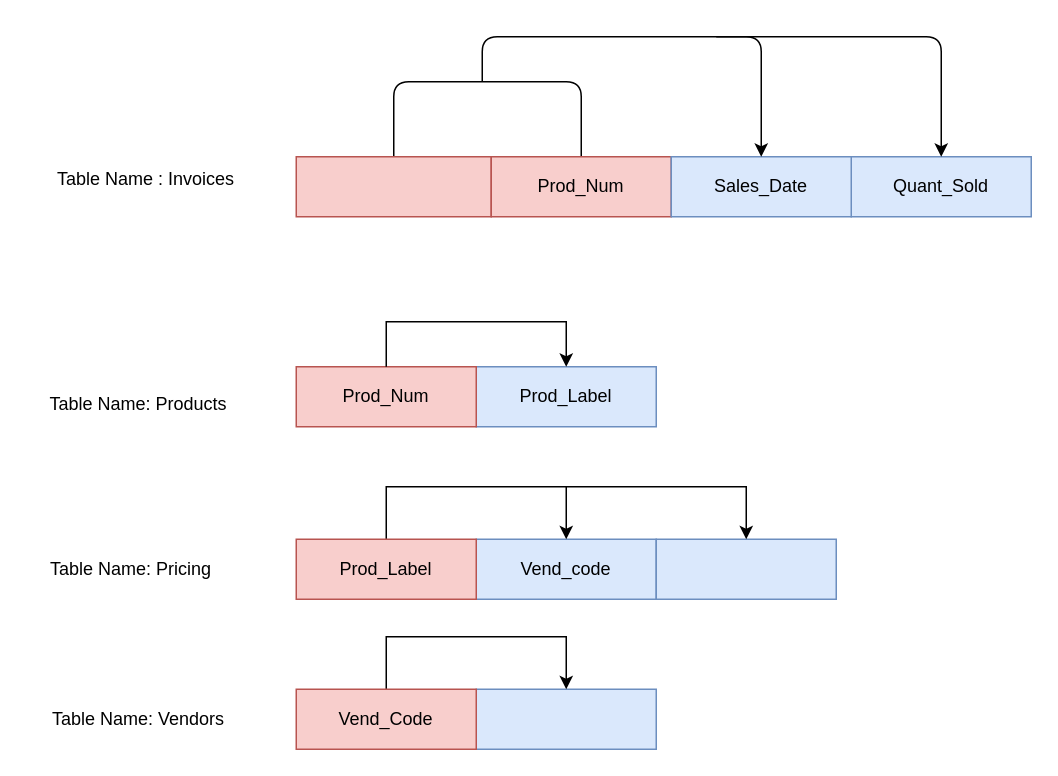
Image size: 1058x776. Some labels were removed from this diagram. Here are the shapes that lost their labels. From the top down, the box of each, then its label:
(295, 155, 491, 217): Inv_Num
(655, 538, 836, 599): Prod_Price
(475, 688, 656, 749): Vend_Name
